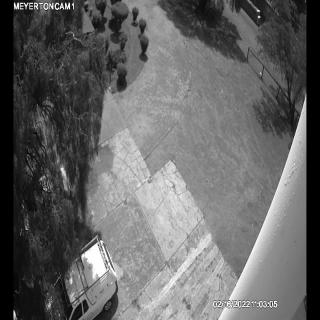car: (53, 240, 119, 318), (20, 167, 71, 237)
